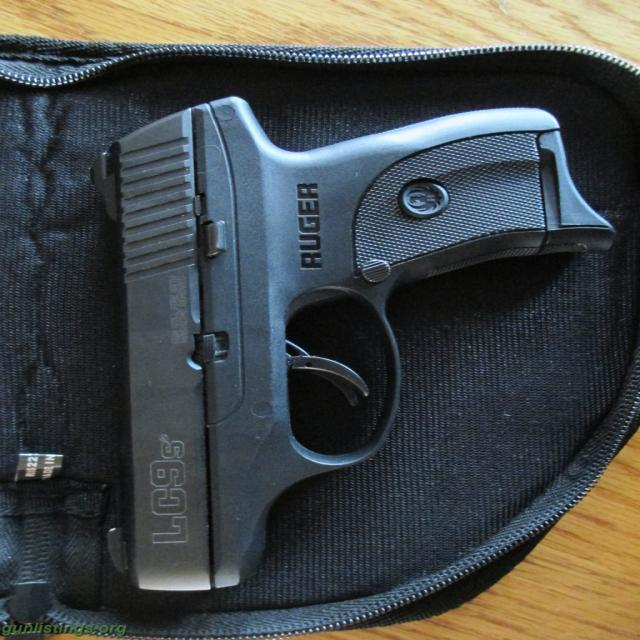Pistol: (79, 78, 630, 629)
